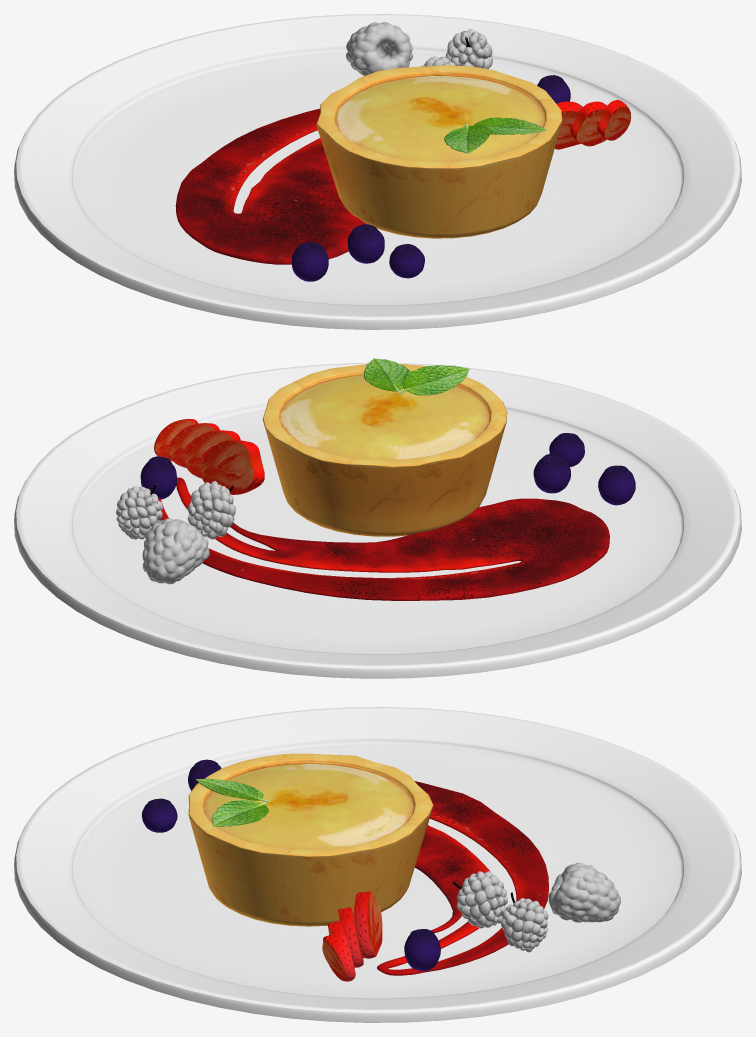
Rendered from Pudding_plate.fbx.
3 renders of one model, top to bottom at view 1: azimuth 30°, elevation 25°; view 2: azimuth 150°, elevation 25°; view 3: azimuth 270°, elevation 25°, orthographic.
Visible parts, largest first — view 1: pudding_plate2, cup_pudding, polySurface1, rasberry1, black_berry2, blue_berry1, blue_berry2, Strawberry_cut3, Strawberry_cut4, blue_berry3, mint_leaves1, mint_leaves2 (+2 smaller); view 2: pudding_plate2, cup_pudding, polySurface1, rasberry1, Strawberry_cut1, black_berry1, black_berry2, mint_leaves1, blue_berry1, blue_berry2, blue_berry4, mint_leaves2 (+4 smaller); view 3: pudding_plate2, cup_pudding, polySurface1, rasberry1, black_berry1, black_berry2, Strawberry_cut1, blue_berry4, mint_leaves2, Strawberry_cut4, blue_berry3, mint_leaves1 (+2 smaller).
Part boxes in pixels (x1,y1,x2,y2): pudding_plate2: (14,14,741,329); cup_pudding: (316,65,562,238); polySurface1: (175,108,366,264); rasberry1: (346,22,412,75); black_berry2: (445,29,492,69); blue_berry1: (291,242,328,281); blue_berry2: (347,224,384,263); Strawberry_cut3: (570,101,606,146); Strawberry_cut4: (597,100,631,140); blue_berry3: (389,244,424,278); mint_leaves1: (444,123,490,153); mint_leaves2: (464,117,546,134); pudding_plate2: (14,363,741,678); cup_pudding: (262,363,507,536); polySurface1: (158,477,609,600); rasberry1: (142,518,209,584); Strawberry_cut1: (200,440,264,494); black_berry1: (187,481,235,539); black_berry2: (116,483,162,539); mint_leaves1: (397,365,469,395); blue_berry1: (598,465,635,505); blue_berry2: (533,453,570,493); blue_berry4: (140,456,176,499); mint_leaves2: (364,358,410,394); pudding_plate2: (14,707,741,1022); cup_pudding: (188,753,433,926); polySurface1: (377,781,548,975); rasberry1: (548,862,620,922); black_berry1: (452,871,507,928); black_berry2: (501,892,548,952); Strawberry_cut1: (353,891,382,958); blue_berry4: (404,929,440,970); mint_leaves2: (211,800,268,826); Strawberry_cut4: (322,934,355,981); blue_berry3: (141,798,177,832); mint_leaves1: (196,778,269,802).
Size of the model in its own units: 1424 by 250 by 1424.
